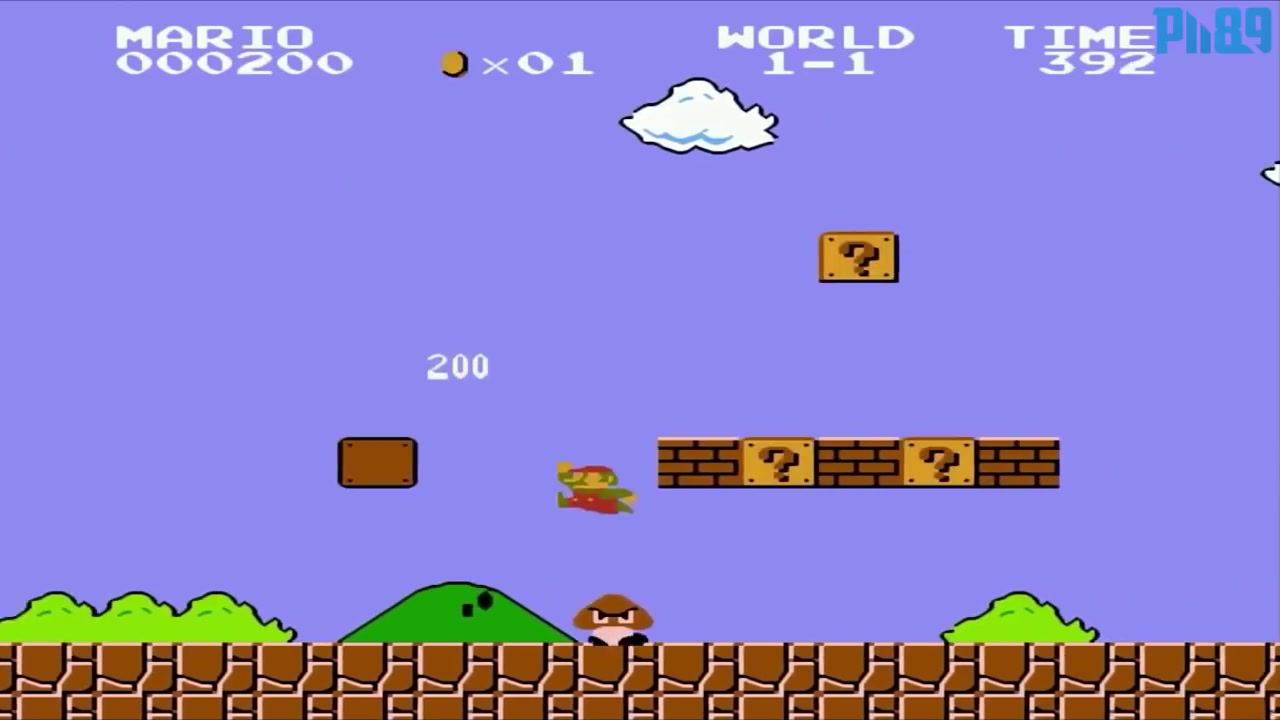mario: (541, 453, 639, 522)
